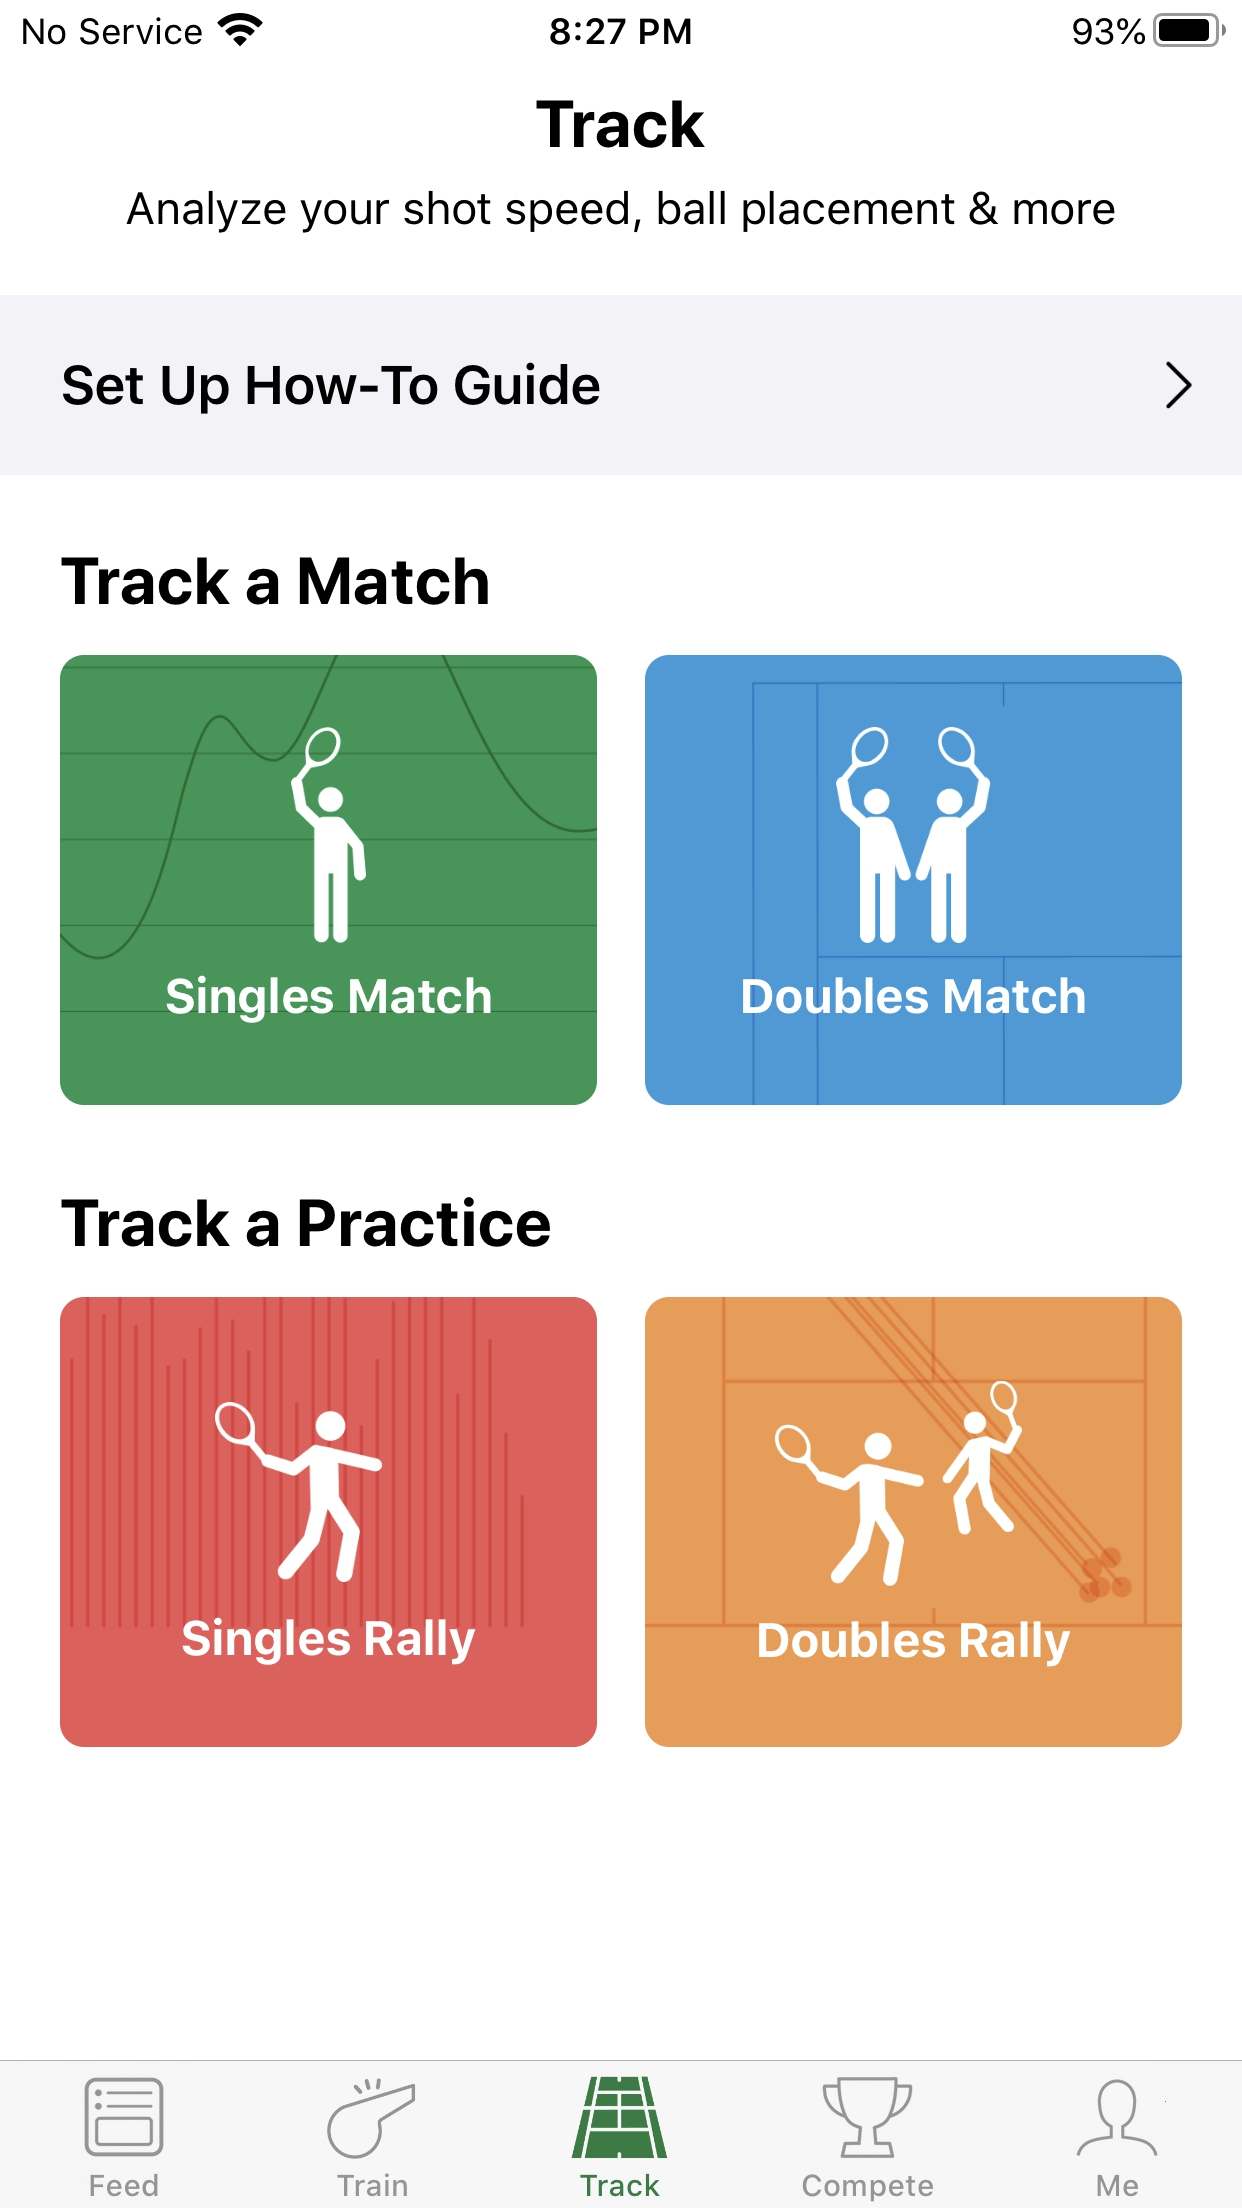Icon: (572, 2075, 667, 2158), (822, 2076, 913, 2158), (328, 2078, 416, 2159), (1077, 2078, 1159, 2156), (83, 2078, 164, 2156), (1166, 362, 1192, 409)
Image: (645, 1297, 1181, 1747), (61, 1297, 597, 1747), (645, 655, 1181, 1106), (61, 655, 597, 1106)
Text: (126, 193, 1115, 234), (64, 362, 601, 416), (61, 1197, 550, 1247), (61, 557, 488, 605), (165, 975, 491, 1024), (758, 1620, 1071, 1667), (182, 1617, 476, 1665), (742, 977, 1084, 1015), (535, 100, 705, 149), (802, 2173, 933, 2200), (579, 2173, 660, 2197), (337, 2172, 408, 2197), (89, 2173, 159, 2197), (1096, 2173, 1137, 2197)
UpperTaskBar: (2, 2, 1242, 49)
